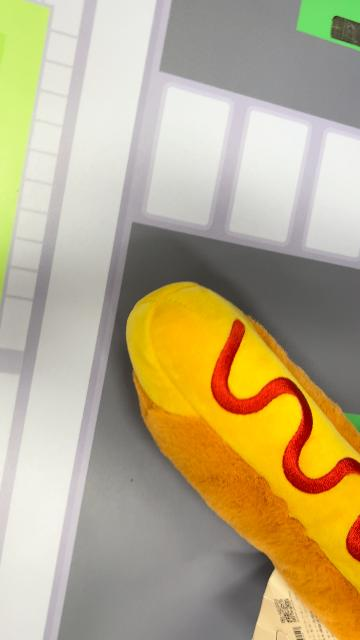hotdog: (125, 280, 359, 638)
